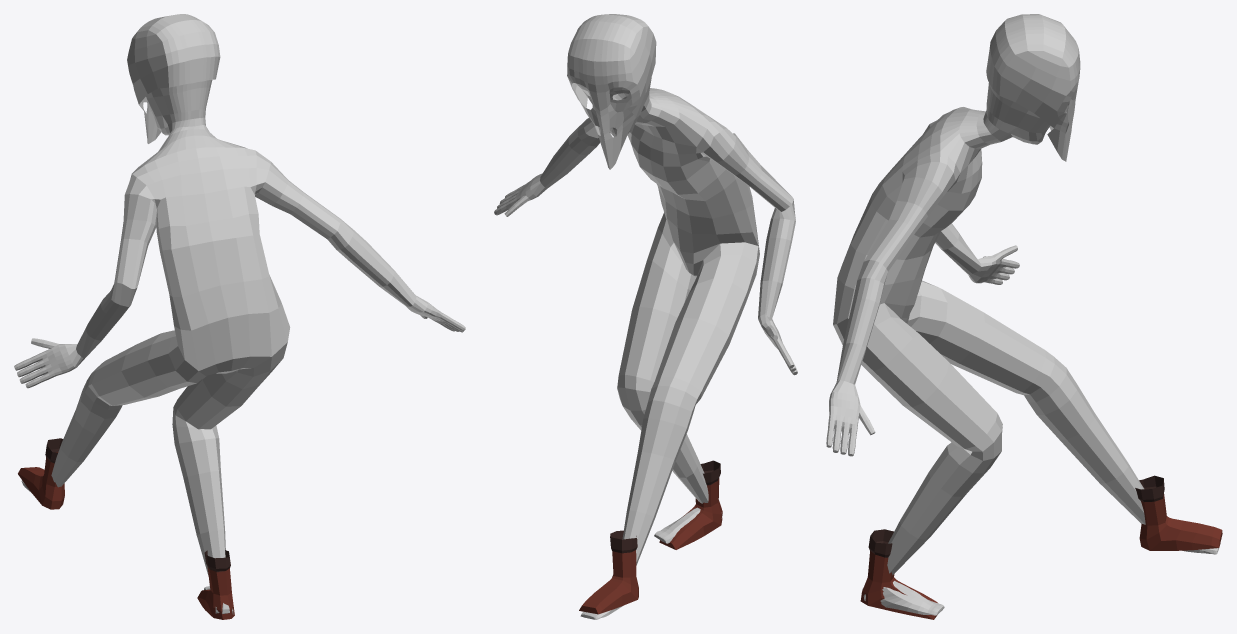
Rendered from saltoadelante_000132.obj.
3 views of the same model, side by side, from view 1: azimuth 30°, elevation 25°; view 2: azimuth 150°, elevation 25°; view 3: azimuth 270°, elevation 25° (orthographic). The views are drawn at different scales.
Visible parts, largest first — view 1: Plane.002_Plane.001, Plane.003, Plane.004; view 2: Plane.002_Plane.001, Plane.004, Plane.003; view 3: Plane.002_Plane.001, Plane.004, Plane.003.
Part boxes in pixels (<box>): Plane.002_Plane.001: <box>14,14,465,614</box>; Plane.003: <box>197,550,234,619</box>; Plane.004: <box>18,438,64,509</box>; Plane.002_Plane.001: <box>494,14,797,619</box>; Plane.004: <box>579,530,638,614</box>; Plane.003: <box>659,460,722,549</box>; Plane.002_Plane.001: <box>826,14,1220,615</box>; Plane.004: <box>1135,475,1222,550</box>; Plane.003: <box>860,529,937,619</box>.
Bounding box in the file's own units: 4.2 × 5.93 × 3.55.
